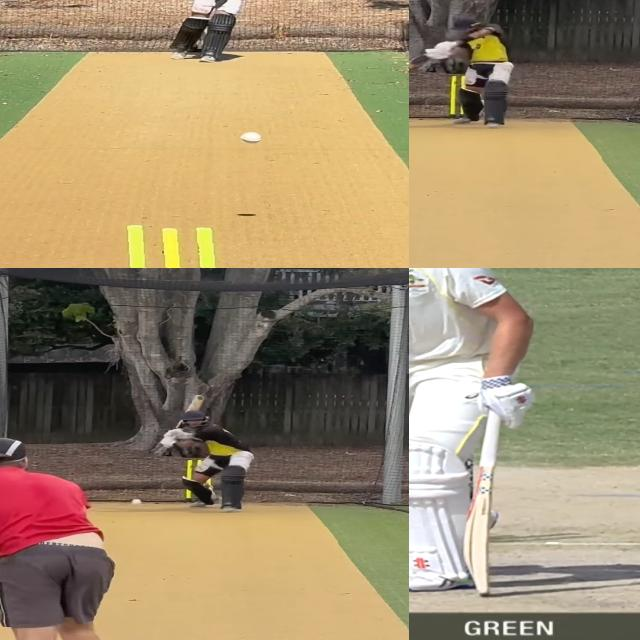Cricket ball: (235, 130, 269, 145), (130, 497, 144, 507), (409, 51, 413, 62)
Stumps: (108, 223, 235, 268)
